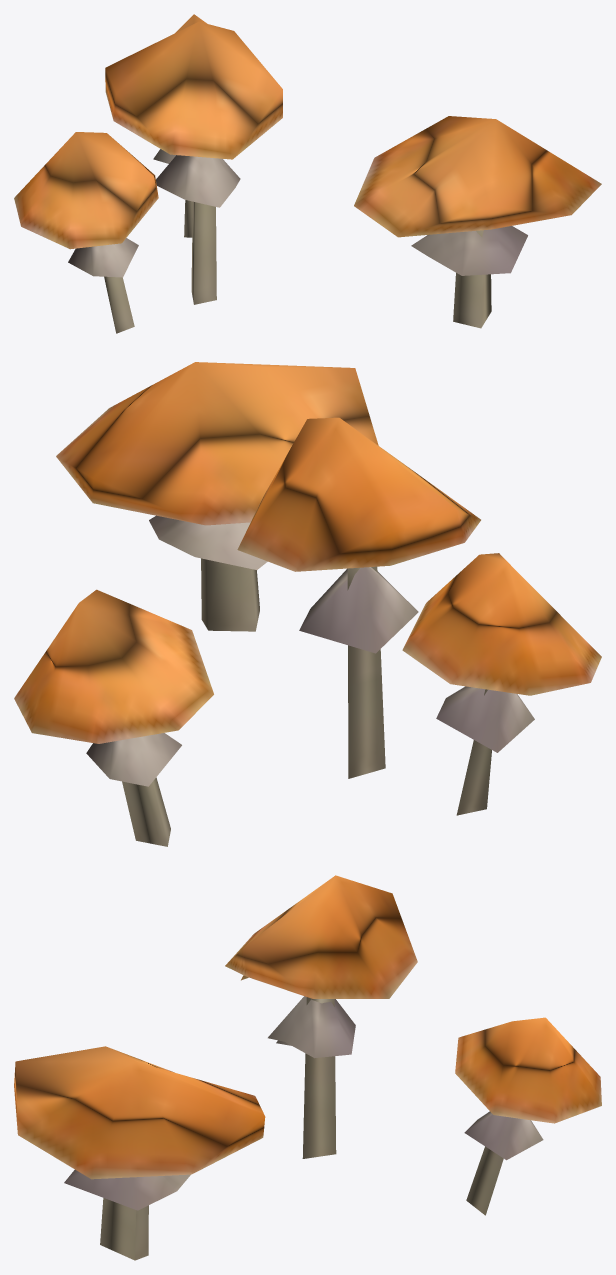
Rendered from mushroom-2.glb.
3 views of the same model, one above another, from view 1: azimuth 30°, elevation 25°; view 2: azimuth 150°, elevation 25°; view 3: azimuth 270°, elevation 25° (orthographic). The views are drawn at different scales.
Parts seen in each view (by area): view 1: Mushroom_RedCap; view 2: Mushroom_RedCap; view 3: Mushroom_RedCap.
Part boxes in pixels (x1,y1,x2,y2): Mushroom_RedCap: [14, 14, 601, 333]; Mushroom_RedCap: [14, 362, 601, 846]; Mushroom_RedCap: [14, 875, 601, 1260].
Size of the model in its own units: 0.3452 by 0.1988 by 0.3543.
1 material, 1 textured.
